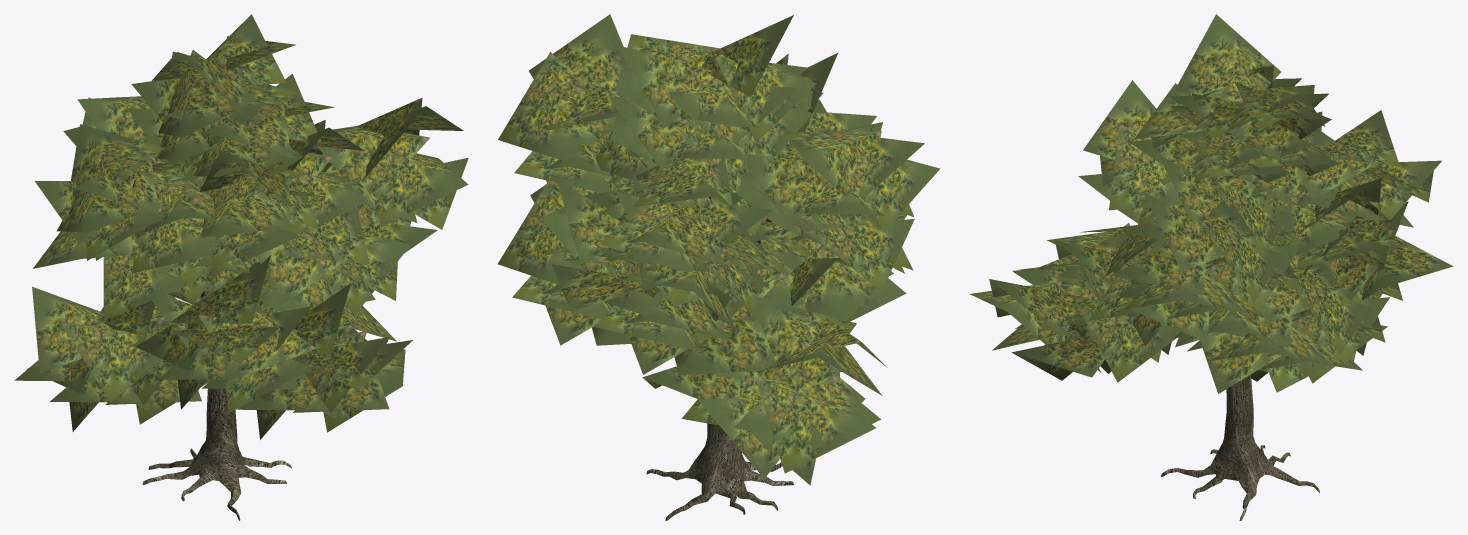
Rendered from oak-summer-a.DAE.
The picture shows the model from 3 angles, left to right: view 1: azimuth 30°, elevation 25°; view 2: azimuth 150°, elevation 25°; view 3: azimuth 270°, elevation 25°; orthographic projection. The views are drawn at different scales.
Parts seen in each view (by area): view 1: oak_a; view 2: oak_a; view 3: oak_a.
Part boxes in pixels (box(x1,y1,x2,y2)): oak_a: box(14, 14, 468, 520); oak_a: box(497, 14, 939, 520); oak_a: box(970, 14, 1453, 520).
Size of what is drawn, in the model's own units: 1321 by 1437 by 1462.
